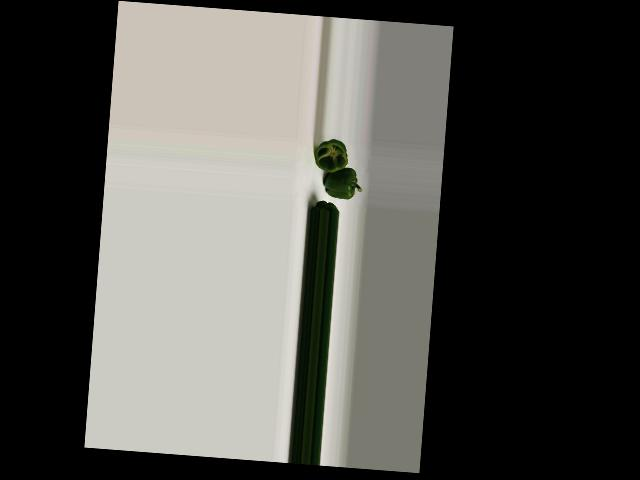bell_pepper: (310, 136, 352, 176)
